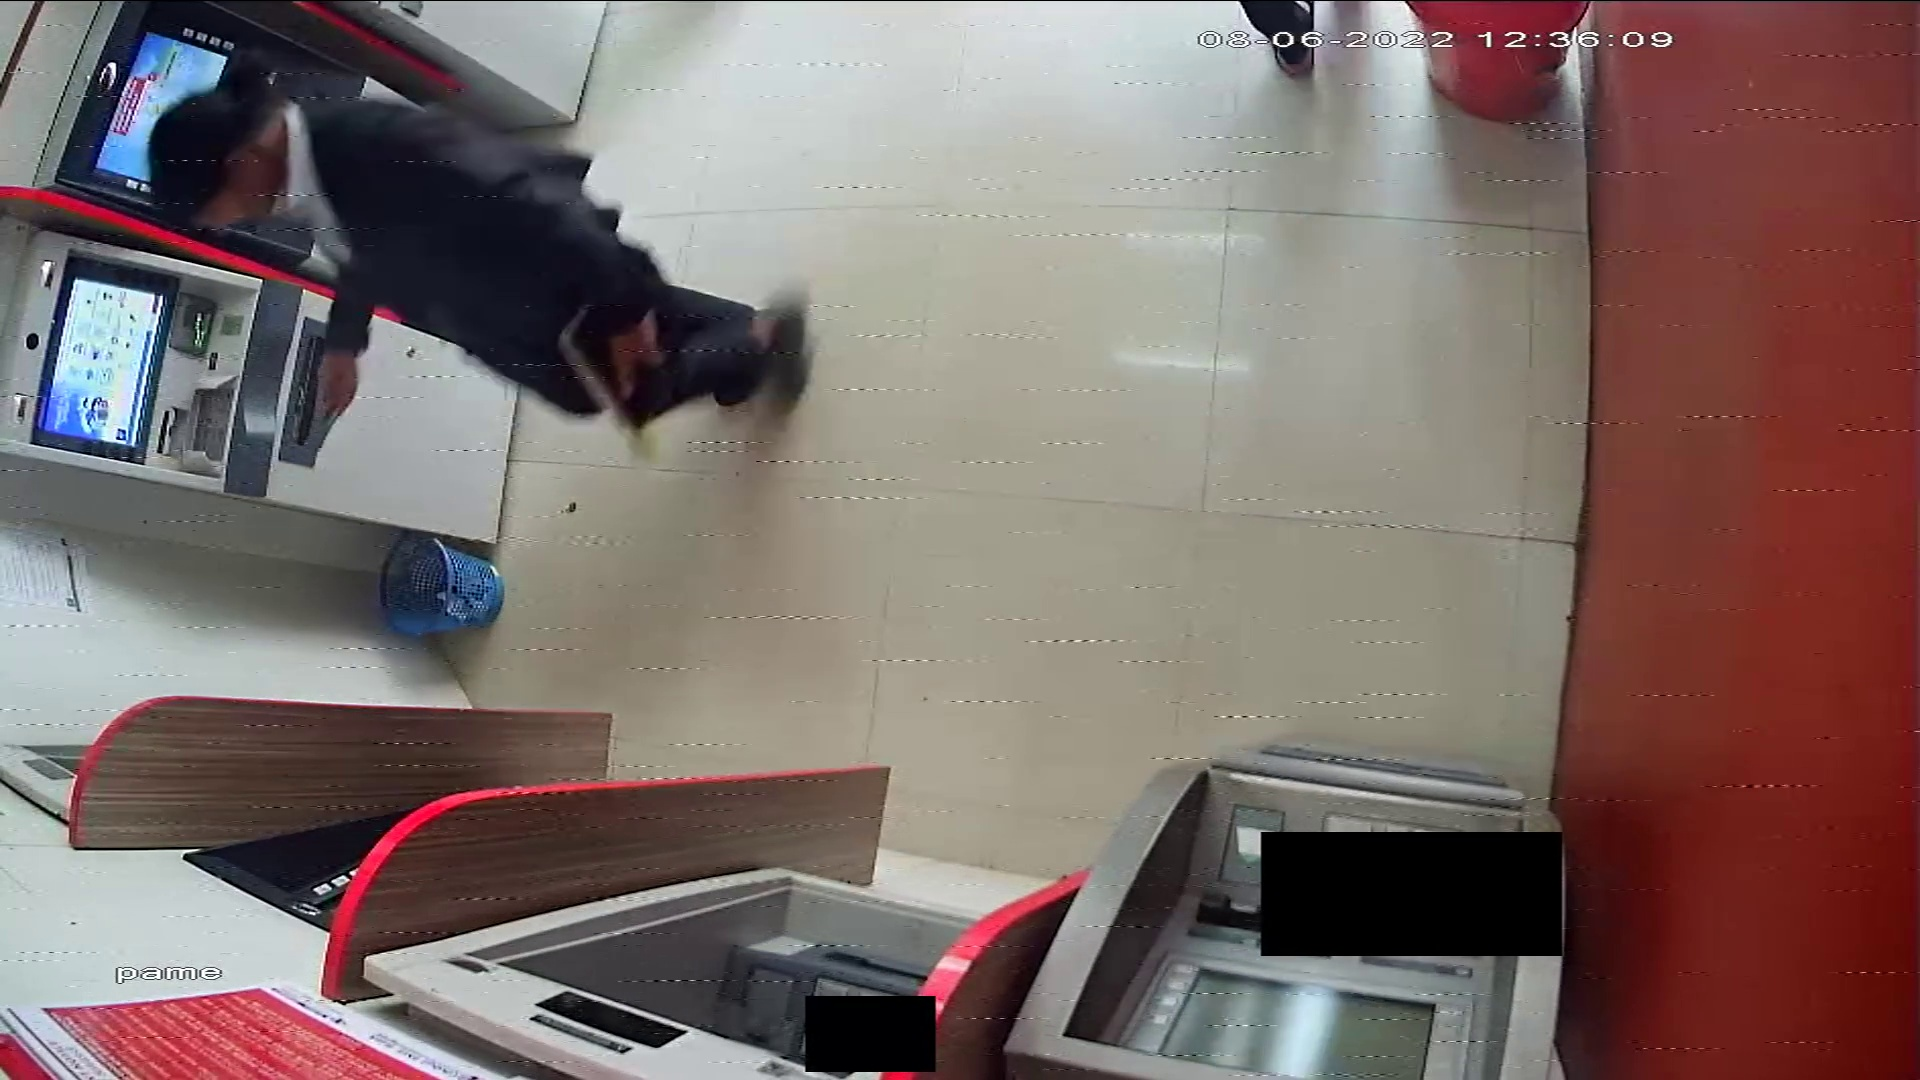person: (123, 58, 811, 430)
